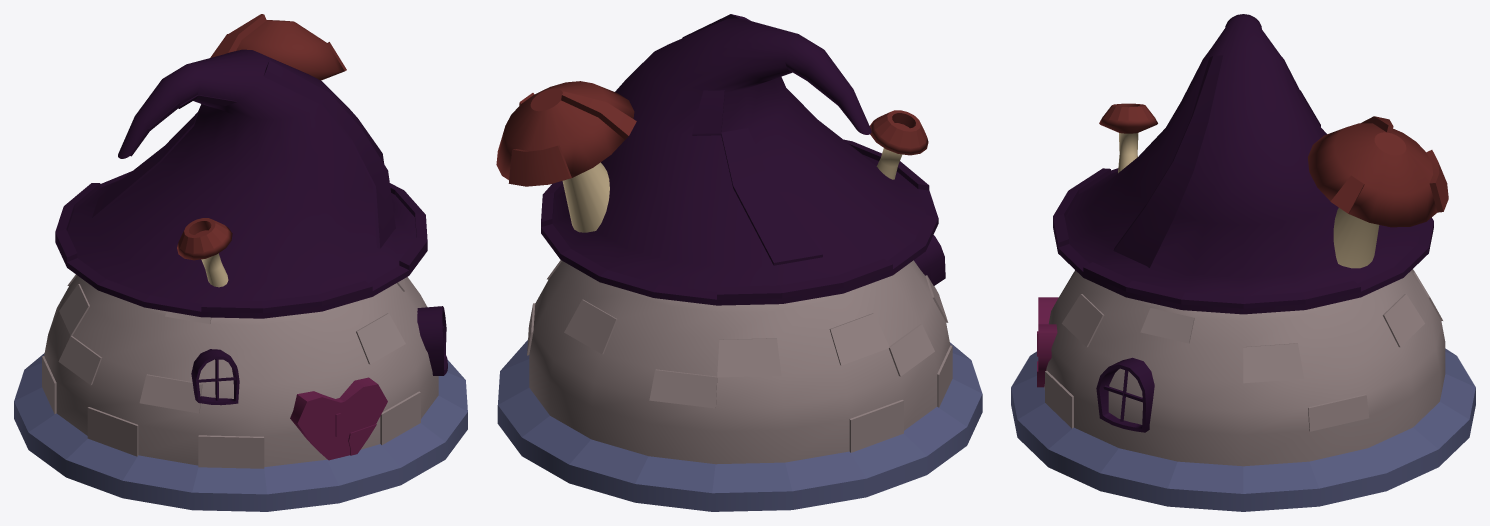
Rendered from shop.fbx.
3 renders of one model, left to right at view 1: azimuth 30°, elevation 25°; view 2: azimuth 150°, elevation 25°; view 3: azimuth 270°, elevation 25°, orthographic. The views are drawn at different scales.
Parts seen in each view (by area): view 1: houseShape; view 2: houseShape; view 3: houseShape.
Part boxes in pixels (bbox=[...]): houseShape: bbox=[14, 14, 467, 511]; houseShape: bbox=[496, 14, 982, 511]; houseShape: bbox=[1011, 14, 1475, 511].
Bounding box in the file's own units: 181 × 160 × 181.
